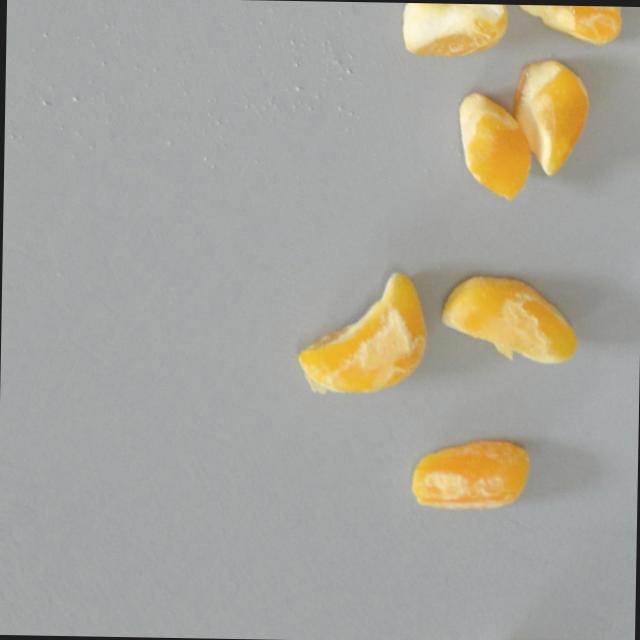estandar: (456, 91, 533, 200)
pelicula: (314, 268, 419, 418), (471, 245, 556, 395), (511, 52, 596, 176), (432, 412, 509, 540), (402, 1, 503, 74), (539, 4, 603, 62)
